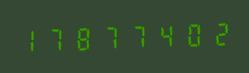eight: (71, 21, 97, 53)
four: (152, 19, 178, 51)
one: (17, 23, 43, 55)
seven: (125, 19, 151, 52), (44, 22, 70, 54), (98, 20, 124, 52)
two: (206, 17, 232, 49)
zero: (179, 18, 205, 50)
